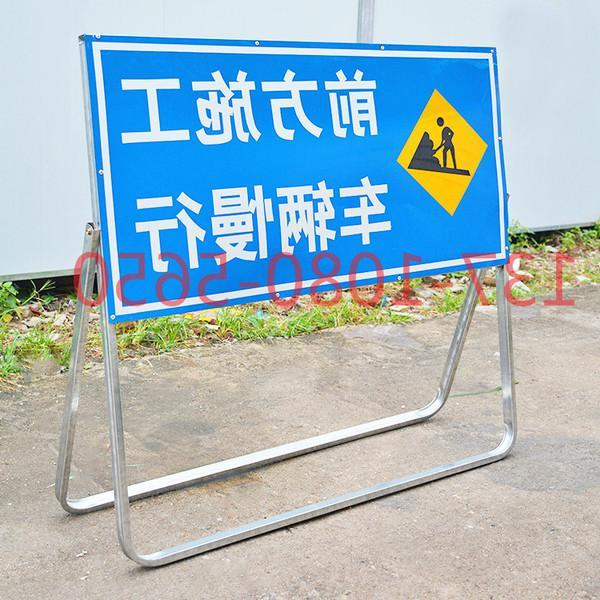sign: (86, 30, 507, 327)
